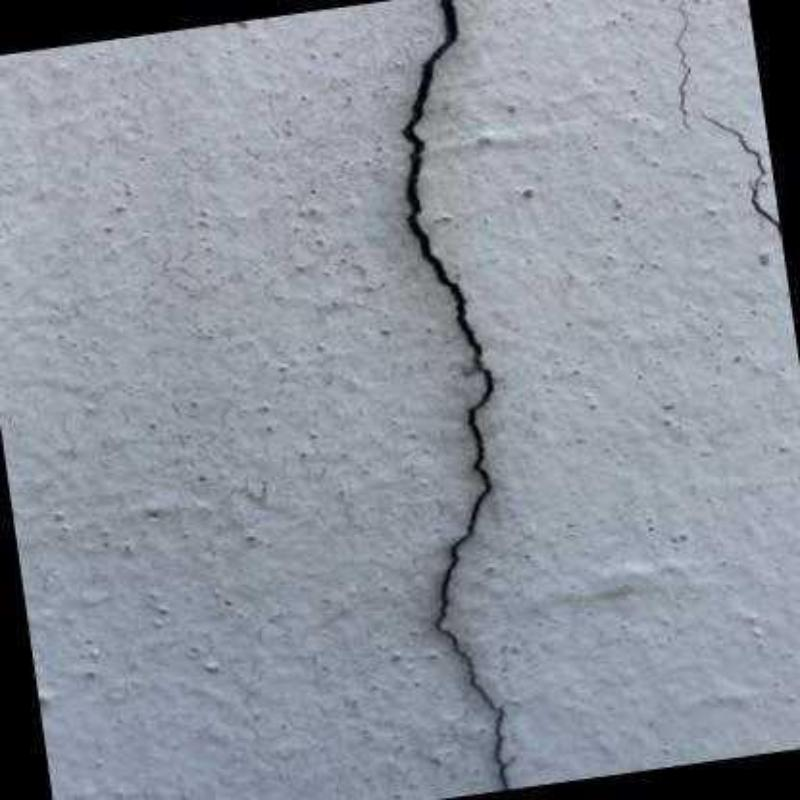crack: (402, 2, 508, 792), (700, 111, 780, 233), (677, 0, 692, 131)
